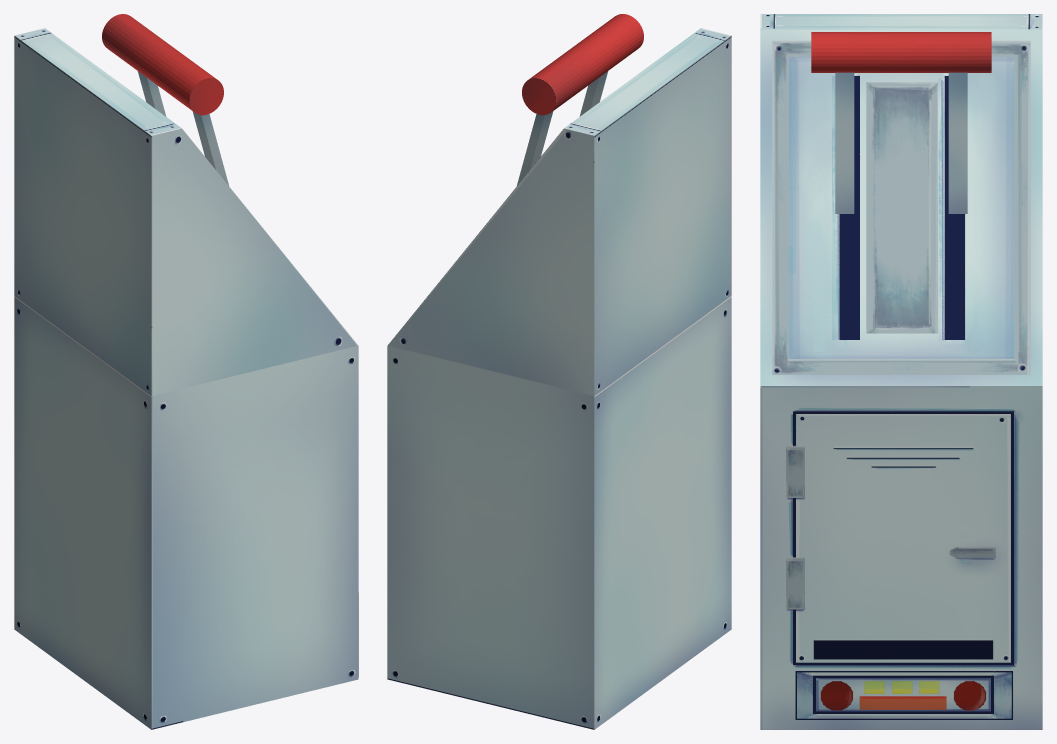
Rendered from switch.fbx.
The picture shows the model from 3 angles, left to right: view 1: azimuth 30°, elevation 25°; view 2: azimuth 150°, elevation 25°; view 3: azimuth 270°, elevation 25°; orthographic projection. The views are drawn at different scales.
Visible parts, largest first — view 1: Base, Top, Handle, Arm; view 2: Base, Top, Handle, Arm; view 3: Base, Top, Handle, Arm.
Part boxes in pixels (bbox=[...]): Base: bbox=[14, 296, 358, 729]; Top: bbox=[14, 28, 357, 395]; Handle: bbox=[102, 14, 223, 115]; Arm: bbox=[137, 71, 228, 185]; Base: bbox=[387, 296, 731, 729]; Top: bbox=[388, 28, 731, 395]; Handle: bbox=[522, 14, 643, 115]; Arm: bbox=[517, 71, 608, 185]; Base: bbox=[760, 386, 1042, 729]; Top: bbox=[760, 14, 1042, 385]; Handle: bbox=[811, 32, 991, 72]; Arm: bbox=[835, 72, 967, 213].
Bounding box in the file's own units: 130 × 368 × 149.
